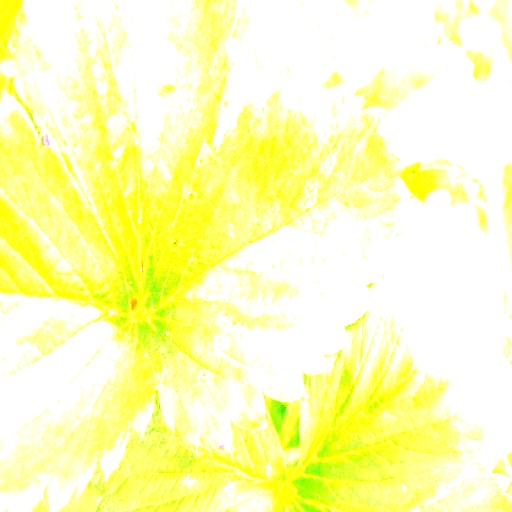Leaf Spot: (145, 75, 413, 454), (22, 0, 243, 307)
